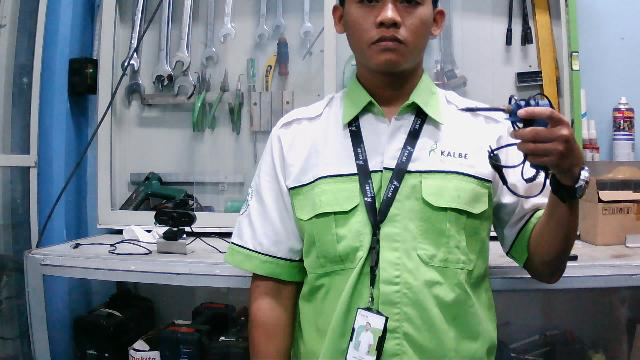solder_electrical: (454, 92, 567, 200)
